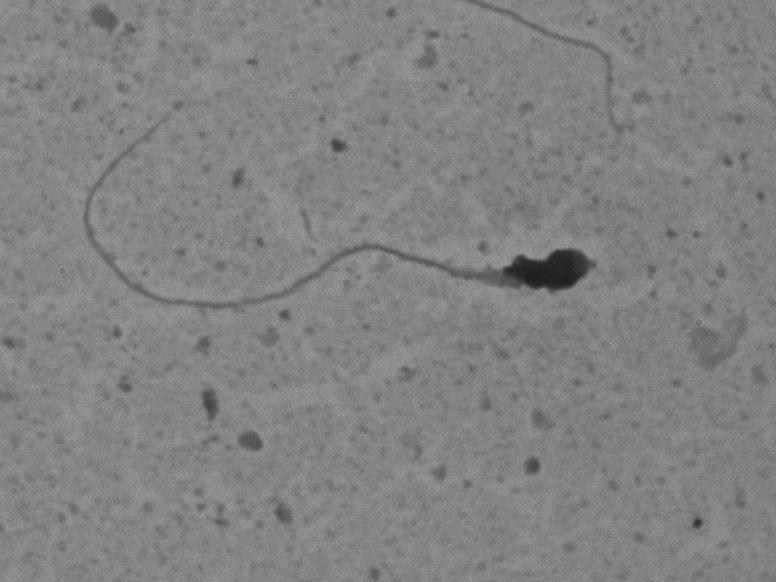Abnormal: (65, 75, 608, 375)
